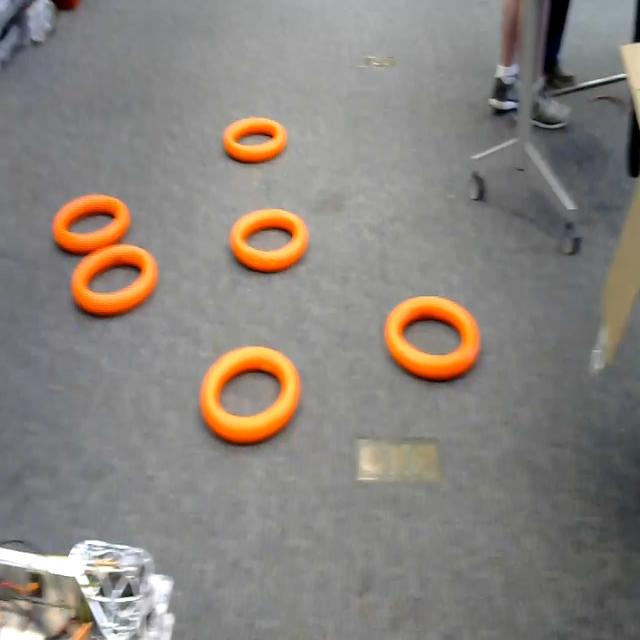note: (198, 339, 311, 450), (380, 287, 491, 393), (62, 247, 163, 318), (228, 205, 319, 278), (50, 188, 138, 256), (223, 109, 289, 168)
